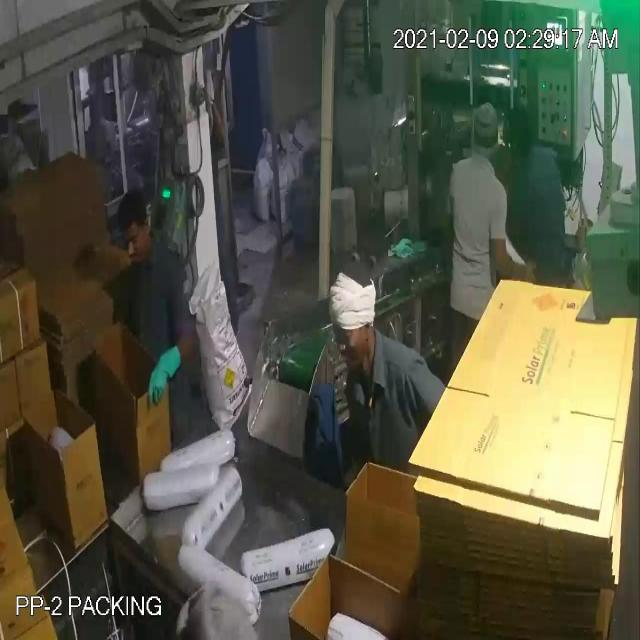gloves: (142, 337, 188, 411)
no-gloves: (494, 226, 548, 297), (202, 90, 226, 148)
